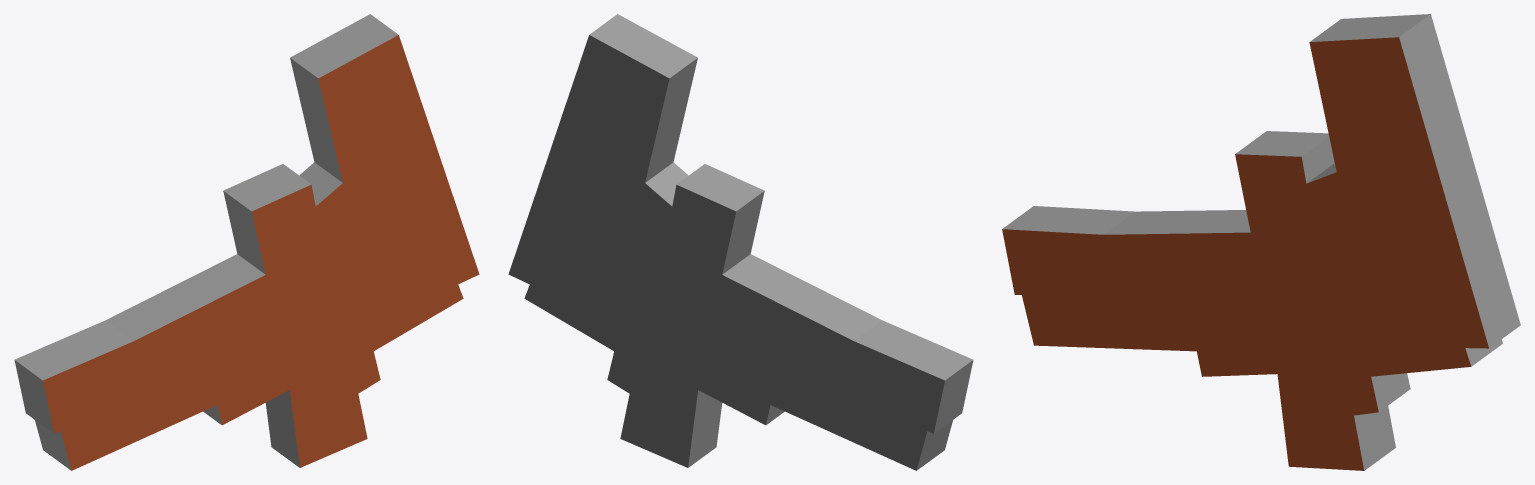
Rendered from construction_3152_assumed_A_Casa_h6m.obj.
The picture shows the model from 3 angles, left to right: view 1: azimuth 30°, elevation 25°; view 2: azimuth 150°, elevation 25°; view 3: azimuth 330°, elevation 25°; orthographic projection. The views are drawn at different scales.
Parts seen in each view (by area): view 1: construction_3152_assumed_A_Casa; view 2: construction_3152_assumed_A_Casa; view 3: construction_3152_assumed_A_Casa.
Part boxes in pixels (x1=…): construction_3152_assumed_A_Casa: x1=14, y1=14, x2=479, y2=470; construction_3152_assumed_A_Casa: x1=508, y1=14, x2=973, y2=470; construction_3152_assumed_A_Casa: x1=1002, y1=14, x2=1520, y2=470.
Bounding box in the file's own units: 53.12 × 47.57 × 6.
